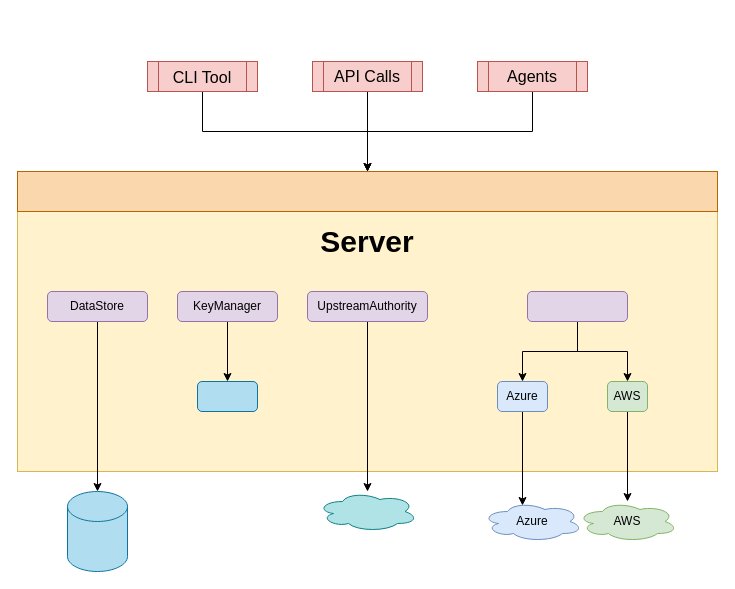
Some shapes in this 735 by 589 pixel diagram are drawn without their labels. The shapes that lost their labels are listed below. From the top down, each one's centre as x and y in pixels, then its label:
At point (367, 191): "API".
At point (577, 306): "NodeAttestor".
At point (227, 396): "memory".
At point (97, 531): "SQL Database".
At point (367, 511): "CA".
